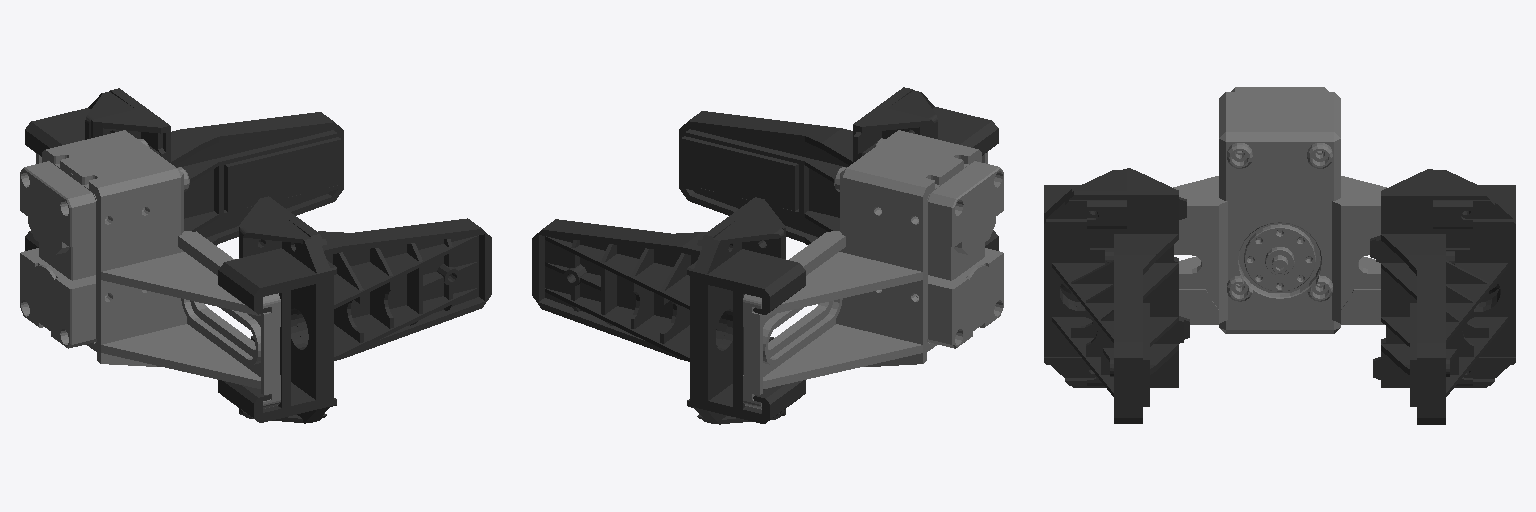
The robot description file, URDF, robot "End Effector Full Build":
<?xml version="1.0" encoding="utf-8"?>
<!-- This URDF was automatically created by SolidWorks to URDF Exporter! Originally created by Stephen Brawner (brawner@gmail.com) 
     Commit Version: 1.6.0-4-g7f85cfe  Build Version: 1.6.7995.38578
     For more information, please see http://wiki.ros.org/sw_urdf_exporter -->
<robot
  name="End Effector Full Build">
  <link
    name="base_link">
    <inertial>
      <origin
        xyz="0.63995994186501 0.882752683758569 1.30997136234927"
        rpy="0 0 0" />
      <mass
        value="0.0759116549493632" />
      <inertia
        ixx="2.88404383988425E-05"
        ixy="7.89906279816193E-07"
        ixz="4.15408614492225E-09"
        iyy="1.87061294837777E-05"
        iyz="-6.78103600826131E-08"
        izz="2.3184991925105E-05" />
    </inertial>
    <visual>
      <origin
        xyz="0 0 0"
        rpy="0 0 0" />
      <geometry>
        <mesh
          filename="package://End Effector Full Build/meshes/base_link.STL" />
      </geometry>
      <material
        name="">
        <color
          rgba="0.250980392156863 0.250980392156863 0.250980392156863 1" />
      </material>
    </visual>
    <collision>
      <origin
        xyz="0 0 0"
        rpy="0 0 0" />
      <geometry>
        <mesh
          filename="package://End Effector Full Build/meshes/base_link.STL" />
      </geometry>
    </collision>
  </link>
  <link
    name="ring_link">
    <inertial>
      <origin
        xyz="0.63995994186501 0.882752683758569 1.30997136234927"
        rpy="0 0 0" />
      <mass
        value="0.0759116549493632" />
      <inertia
        ixx="2.88404383988425E-05"
        ixy="7.89906279816192E-07"
        ixz="4.15408614492222E-09"
        iyy="1.87061294837777E-05"
        iyz="-6.7810360082612E-08"
        izz="2.3184991925105E-05" />
    </inertial>
    <visual>
      <origin
        xyz="0 0 0"
        rpy="0 0 0" />
      <geometry>
        <mesh
          filename="package://End Effector Full Build/meshes/ring_link.STL" />
      </geometry>
      <material
        name="">
        <color
          rgba="0.501960784313725 0.501960784313725 0.501960784313725 1" />
      </material>
    </visual>
    <collision>
      <origin
        xyz="0 0 0"
        rpy="0 0 0" />
      <geometry>
        <mesh
          filename="package://End Effector Full Build/meshes/ring_link.STL" />
      </geometry>
    </collision>
  </link>
  <joint
    name="ring_joint"
    type="revolute">
    <origin
      xyz="0 0 0"
      rpy="1.5708 0 0" />
    <parent
      link="base_link" />
    <child
      link="ring_link" />
    <axis
      xyz="-1 0 0" />
    <limit
      lower="0"
      upper="0"
      effort="0"
      velocity="0" />
  </joint>
  <link
    name="finger_1">
    <inertial>
      <origin
        xyz="0.680923229107462 0.874516569433822 1.35574022749771"
        rpy="0 0 0" />
      <mass
        value="0.0274218746612953" />
      <inertia
        ixx="7.35775041024055E-06"
        ixy="-3.29946062098072E-09"
        ixz="2.17678939216607E-07"
        iyy="8.21755201624369E-06"
        iyz="-1.75531616535631E-10"
        izz="1.30421771999728E-05" />
    </inertial>
    <visual>
      <origin
        xyz="0 0 0"
        rpy="0 0 0" />
      <geometry>
        <mesh
          filename="package://End Effector Full Build/meshes/finger_1.STL" />
      </geometry>
      <material
        name="">
        <color
          rgba="0.250980392156863 0.250980392156863 0.250980392156863 1" />
      </material>
    </visual>
    <collision>
      <origin
        xyz="0 0 0"
        rpy="0 0 0" />
      <geometry>
        <mesh
          filename="package://End Effector Full Build/meshes/finger_1.STL" />
      </geometry>
    </collision>
  </link>
  <joint
    name="finger_1_joint"
    type="prismatic">
    <origin
      xyz="0 0 0"
      rpy="1.5708 0 0" />
    <parent
      link="base_link" />
    <child
      link="finger_1" />
    <axis
      xyz="1 0 0" />
    <limit
      lower="0"
      upper="0"
      effort="0"
      velocity="0" />
  </joint>
  <link
    name="finger_2">
    <inertial>
      <origin
        xyz="0.680723229127122 0.874333283162996 1.26420245619229"
        rpy="0 0 0" />
      <mass
        value="0.0274218746612973" />
      <inertia
        ixx="7.35775041042796E-06"
        ixy="3.29946062069661E-09"
        ixz="-2.17678941658349E-07"
        iyy="8.21755201624478E-06"
        iyz="-1.75531615189774E-10"
        izz="1.3042177199787E-05" />
    </inertial>
    <visual>
      <origin
        xyz="0 0 0"
        rpy="0 0 0" />
      <geometry>
        <mesh
          filename="package://End Effector Full Build/meshes/finger_2.STL" />
      </geometry>
      <material
        name="">
        <color
          rgba="0.250980392156863 0.250980392156863 0.250980392156863 1" />
      </material>
    </visual>
    <collision>
      <origin
        xyz="0 0 0"
        rpy="0 0 0" />
      <geometry>
        <mesh
          filename="package://End Effector Full Build/meshes/finger_2.STL" />
      </geometry>
    </collision>
  </link>
  <joint
    name="finger_2_joint"
    type="prismatic">
    <origin
      xyz="0 0 0"
      rpy="1.5708 0 0" />
    <parent
      link="base_link" />
    <child
      link="finger_2" />
    <axis
      xyz="1 0 0" />
    <limit
      lower="0"
      upper="0"
      effort="0"
      velocity="0" />
    <mimic
      joint="finger_1_joint"
      multiplier="-1"
      offset="0" />
  </joint>
</robot>

--- Render facts (derived) ---
Views: 3 orthographic renders of the robot side by side, from view 1: azimuth 30°, elevation 25°; view 2: azimuth 150°, elevation 25°; view 3: azimuth 270°, elevation 25°.
Model End Effector Full Build with 4 links and 3 joints (1 revolute, 2 prismatic), rooted at base_link, posed all joints at 0.
Links seen in each view (by area): view 1: ring_link, finger_1, finger_2; view 2: ring_link, finger_2, finger_1; view 3: ring_link, finger_2, finger_1.
Boxes of the visible links, bbox=[...] form: ring_link: bbox=[20, 130, 280, 408]; finger_1: bbox=[218, 196, 491, 423]; finger_2: bbox=[25, 88, 343, 250]; ring_link: bbox=[743, 130, 1003, 409]; finger_2: bbox=[532, 197, 805, 424]; finger_1: bbox=[679, 87, 998, 250]; ring_link: bbox=[1173, 87, 1386, 333]; finger_2: bbox=[1370, 169, 1515, 424]; finger_1: bbox=[1044, 168, 1189, 423].
Bounding box of the posed robot: 0.1188 × 0.1285 × 0.0669 m (x, y, z).
Meshes: 4 distinct files referenced, 3 mesh visuals loaded (3 binary STL); not drawn: 1 (reference not matched to a file when rendering).
